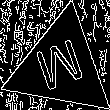M_S: (32, 35, 89, 98)
